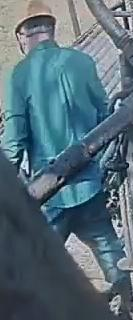helmet: (14, 0, 57, 36)
vest: (1, 39, 108, 214)
